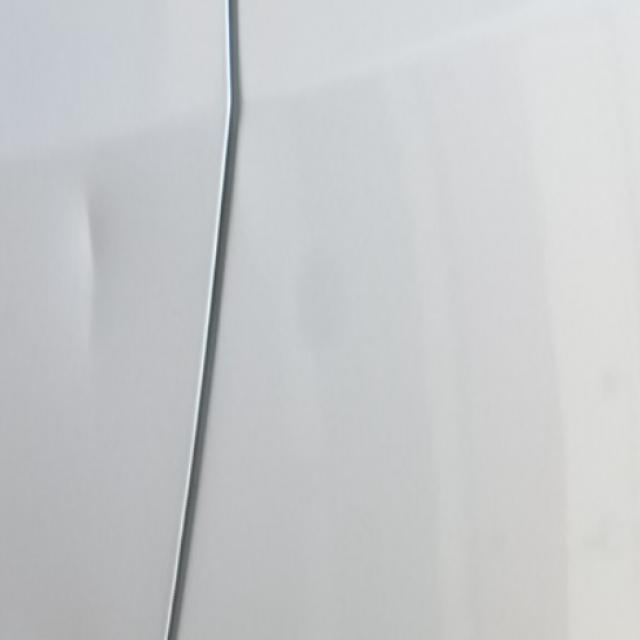dents: (63, 182, 126, 385)
